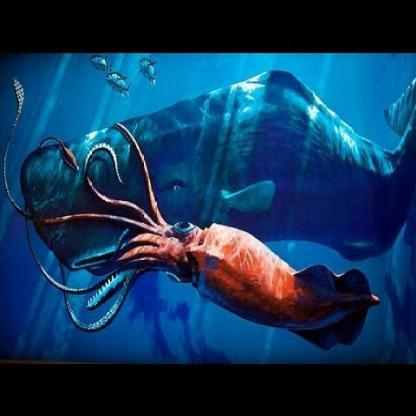colossal_squid: (10, 120, 383, 360)
